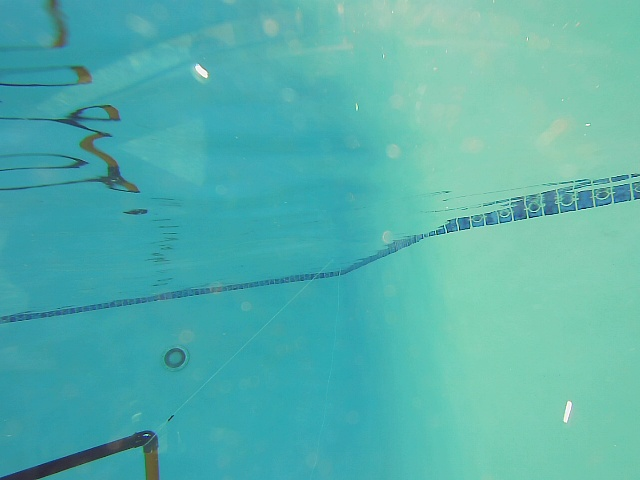Gate: (141, 445, 161, 480)
